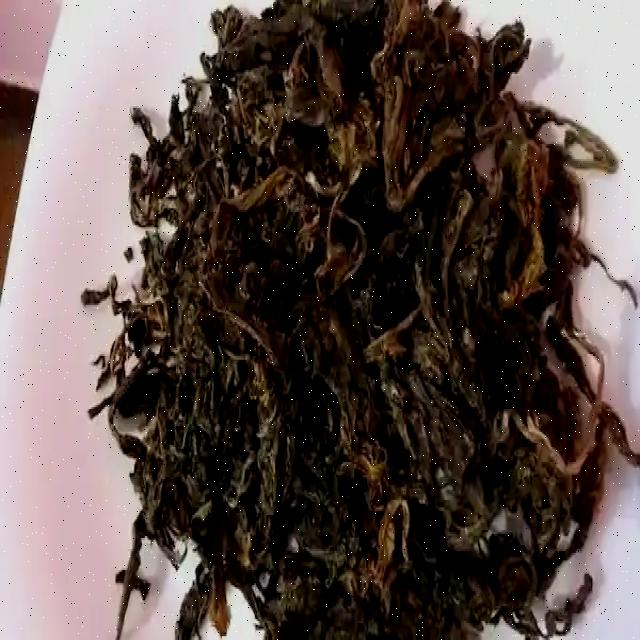NA: (176, 126, 578, 640)
